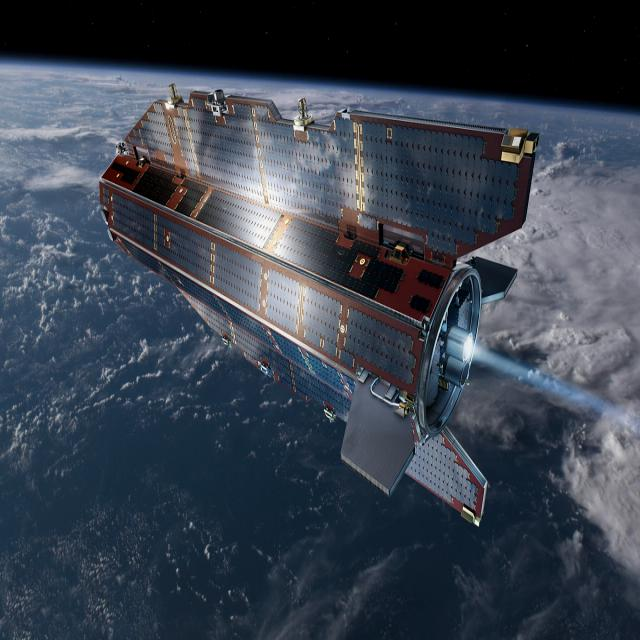medium_debris: (100, 72, 544, 539)
